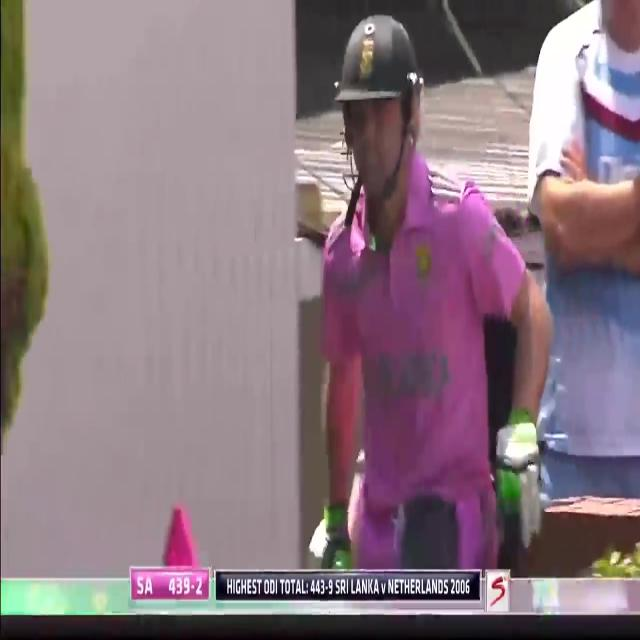Ball: (258, 8, 559, 573)
